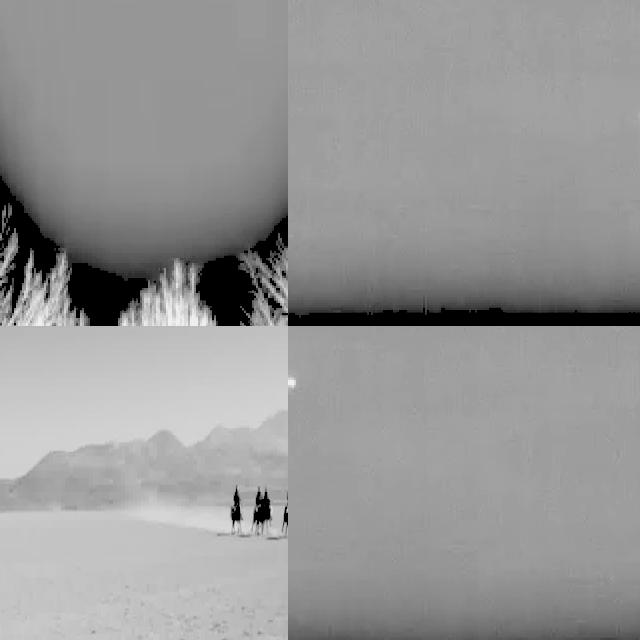1: (288, 372, 300, 392), (635, 104, 640, 127)
drone: (120, 326, 140, 336)
